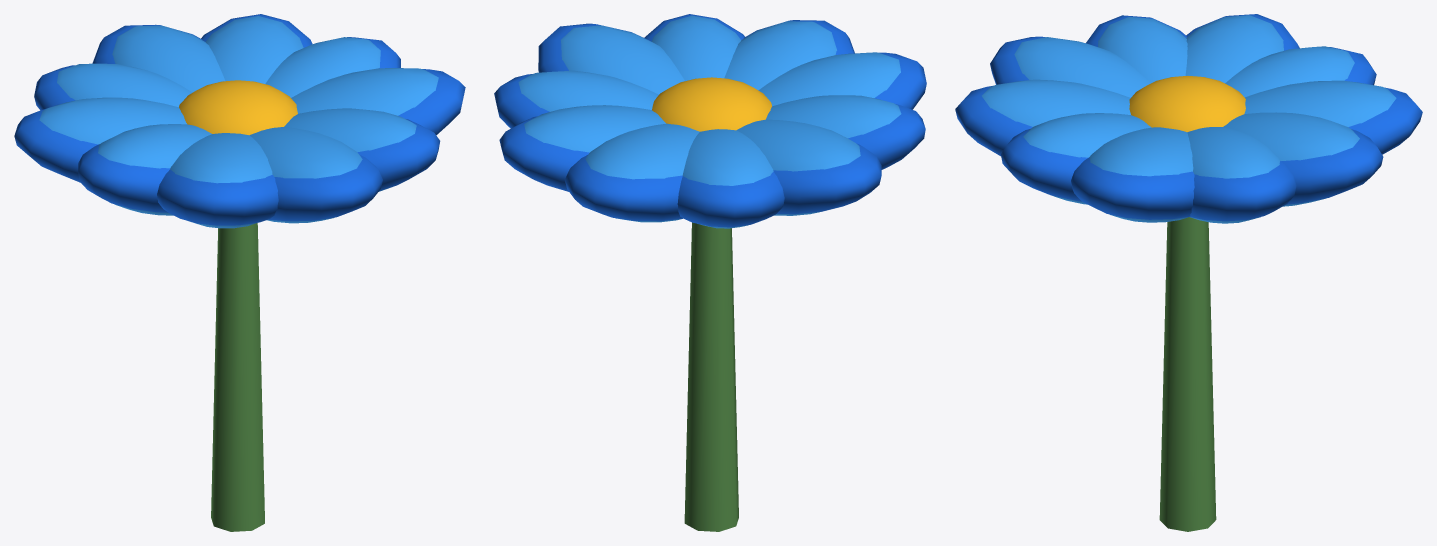
Rendered from cosmos-daisy-flower-blue.glb.
3 views of the same model, side by side, from view 1: azimuth 30°, elevation 25°; view 2: azimuth 150°, elevation 25°; view 3: azimuth 270°, elevation 25° (orthographic).
Visible parts, largest first — view 1: stem, part_19, center, part_6, part_12, part_16, part_10, part_1, part_2, part_20, part_8, part_14 (+9 smaller); view 2: stem, part_6, center, part_20, part_11, part_2, part_12, part_16, part_13, part_15, part_10, part_8 (+9 smaller); view 3: stem, part_5, center, part_20, part_12, part_2, part_16, part_10, part_7, part_6, part_18, part_14 (+9 smaller).
Boxes of the visible parts, left/top/right/bottom form: stem: left=211, top=223, right=264, bottom=531; part_19: left=157, top=169, right=278, bottom=225; center: left=179, top=80, right=297, bottom=135; part_6: left=291, top=68, right=438, bottom=115; part_12: left=112, top=25, right=225, bottom=92; part_16: left=39, top=97, right=186, bottom=144; part_10: left=205, top=16, right=303, bottom=83; part_1: left=269, top=154, right=382, bottom=221; part_2: left=249, top=127, right=362, bottom=223; part_20: left=170, top=133, right=272, bottom=228; part_8: left=265, top=37, right=380, bottom=97; part_14: left=57, top=63, right=192, bottom=106; stem: left=684, top=222, right=738, bottom=531; part_6: left=561, top=25, right=684, bottom=94; center: left=652, top=77, right=771, bottom=131; part_20: left=758, top=52, right=900, bottom=106; part_11: left=565, top=155, right=682, bottom=221; part_2: left=724, top=21, right=836, bottom=90; part_12: left=585, top=123, right=699, bottom=222; part_16: left=736, top=119, right=860, bottom=215; part_13: left=677, top=172, right=784, bottom=227; part_15: left=773, top=143, right=881, bottom=214; part_10: left=524, top=105, right=665, bottom=152; part_8: left=518, top=70, right=658, bottom=111; stem: left=1159, top=217, right=1216, bottom=531; part_5: left=1071, top=157, right=1194, bottom=219; center: left=1129, top=76, right=1245, bottom=132; part_20: left=1014, top=37, right=1150, bottom=97; part_12: left=1244, top=80, right=1396, bottom=126; part_2: left=982, top=79, right=1130, bottom=126; part_16: left=1185, top=15, right=1283, bottom=83; part_10: left=1223, top=112, right=1359, bottom=206; part_7: left=1189, top=161, right=1296, bottom=221; part_6: left=1089, top=127, right=1193, bottom=222; part_18: left=1098, top=17, right=1187, bottom=83; part_14: left=1225, top=46, right=1354, bottom=97.
Size of the model in its own units: 0.2819 by 0.3055 by 0.2978.
